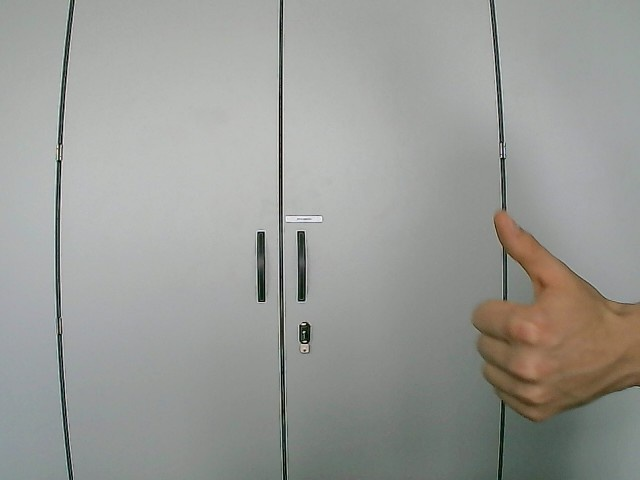up: (470, 209, 639, 424)
